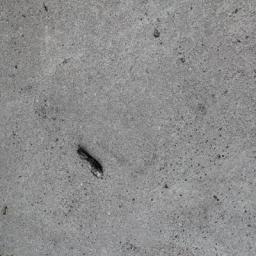FOD: (76, 146, 109, 181)
